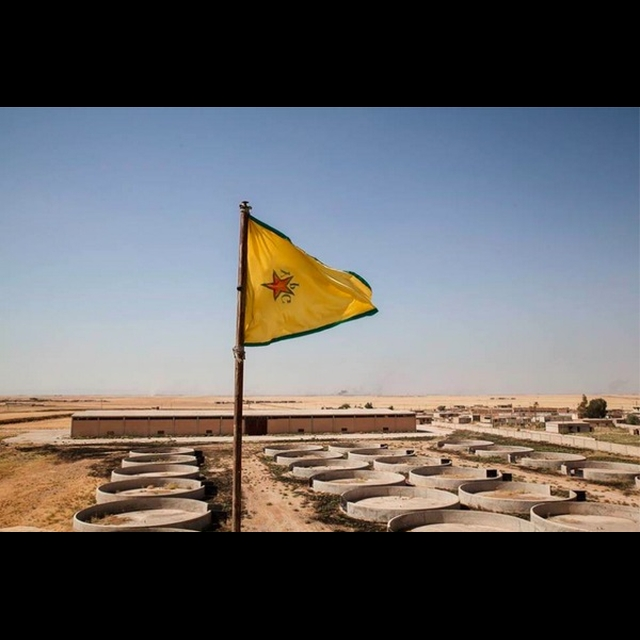YPG: (261, 261, 307, 312)
